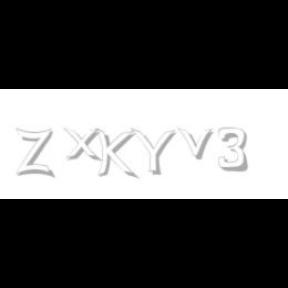3: (218, 128, 250, 172)
K: (95, 128, 135, 180)
Y: (130, 128, 176, 176)
Z: (16, 128, 52, 178)
v: (177, 128, 217, 160)
x: (63, 128, 105, 162)
